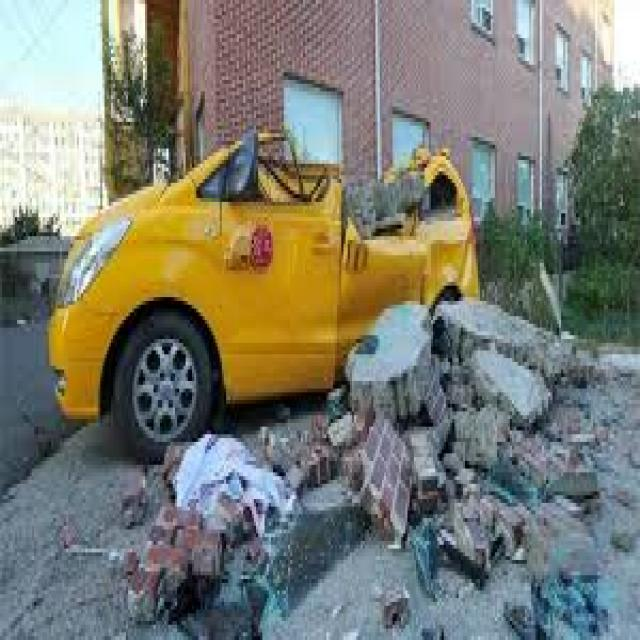severe: (62, 70, 522, 482)
